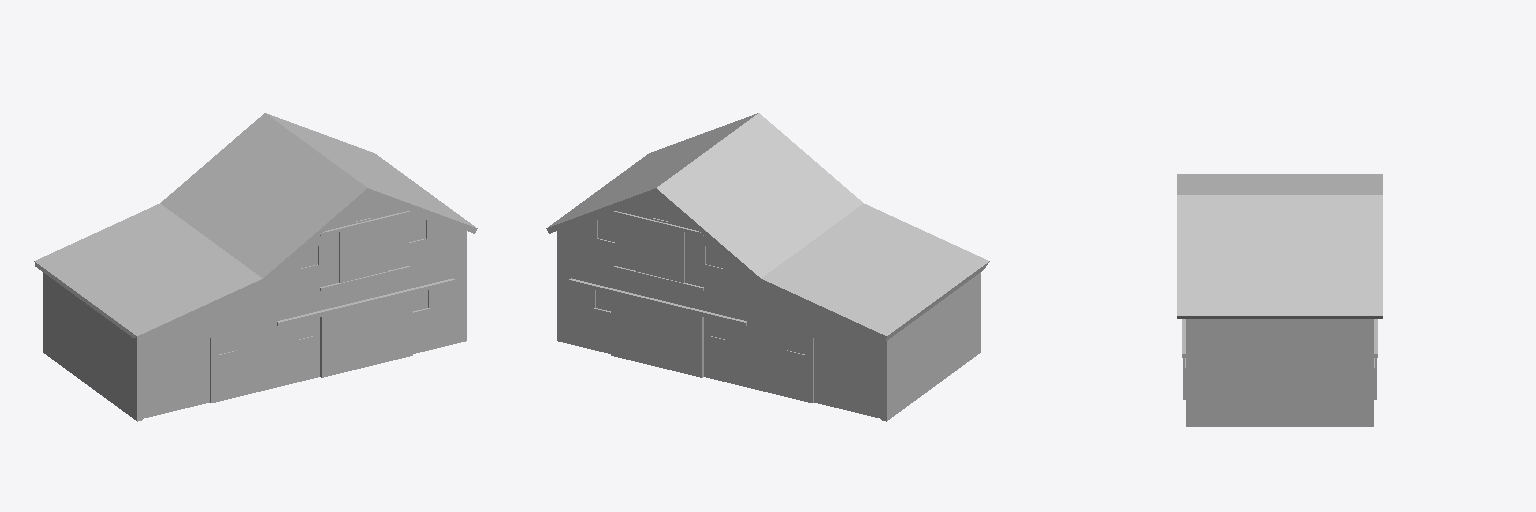
The model's file is Granero.obj.
3 renders of one model, left to right at view 1: azimuth 30°, elevation 25°; view 2: azimuth 150°, elevation 25°; view 3: azimuth 270°, elevation 25°, orthographic.
Visible parts, largest first — view 1: barn; view 2: barn; view 3: barn.
Part boxes in pixels (x1,y1,x2,y2): barn: (34, 113, 477, 421); barn: (546, 113, 989, 421); barn: (1177, 174, 1382, 426).
Bounding box in the file's own units: 2.02 × 1.03 × 1.06.